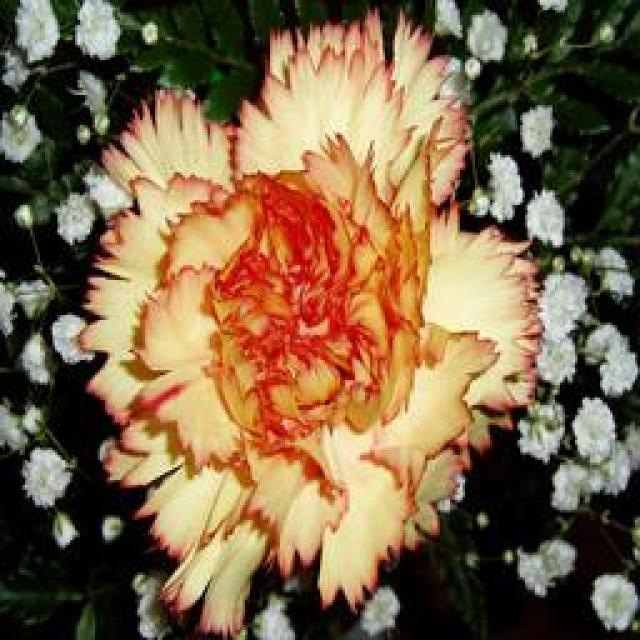carnation: (58, 12, 580, 640)
